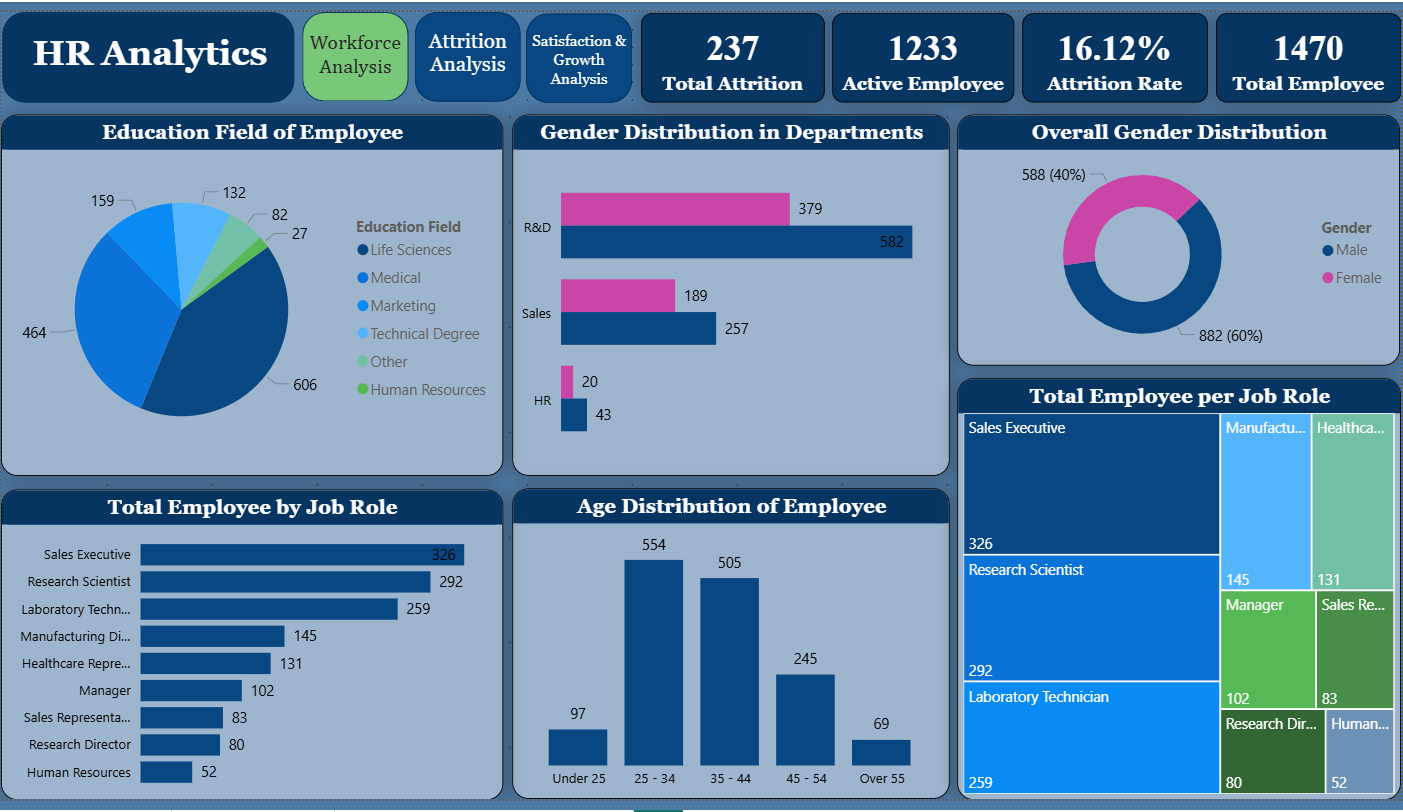

Layout of this report page (visuals, bound fields, positions):
{"tool":"powerbi","page":{"name":"Workforce Analysis","canvas":[1280,720],"ordinal":0},"visuals":[{"type":"card","fields":{"Values":["CountNonNull(HR data.Employee Count)"]},"box":[1110.4,1.4,169.4,81.4],"z":0},{"type":"clusteredBarChart","title":"Gender Distribution in Departments","fields":{"Y":["CountNonNull(HR data.emp no)"],"Category":["HR data.Department"],"Series":["HR data.Gender"]},"box":[467.5,93.5,400.2,330.4],"z":1000},{"type":"donutChart","title":"Overall Gender Distribution","fields":{"Category":["HR data.Gender"],"Y":["CountNonNull(HR data.emp no)"]},"box":[874,93.5,405.2,229.4],"z":2000},{"type":"card","fields":{"Values":["CountNonNull(HR data.Attrition)"]},"box":[585.5,1.4,168,81.4],"z":3000},{"type":"columnChart","title":"Age Distribution of Employee","fields":{"Category":["HR data.CF_age band"],"Y":["CountNonNull(HR data.emp no)"]},"box":[467.5,435.7,400.2,284.3],"z":4000},{"type":"clusteredBarChart","title":"Total Employee by Job Role","fields":{"Y":["CountNonNull(HR data.emp no)"],"Category":["HR data.Job Role"]},"box":[0,436.4,458.8,284.3],"z":5000},{"type":"card","fields":{"Values":["HR data.Attretion Rate"]},"box":[934.1,1.4,169.4,81.4],"z":6000},{"type":"pieChart","title":"Education Field of Employee","fields":{"Category":["HR data.Education Field"],"Y":["CountNonNull(HR data.emp no)"]},"box":[0,93.5,458.8,330.4],"z":7000},{"type":"treemap","title":"Total Employee per Job Role","fields":{"Values":["CountNonNull(HR data.emp no)"],"Group":["HR data.Job Role"]},"box":[874.2,335,405.8,385.8],"z":8000},{"type":"card","fields":{"Values":["CountNonNull(HR data.Attrition)"]},"box":[760.5,1.4,166.6,81.4],"z":9000},{"type":"shape","box":[1.2,0,267.1,82.9],"z":10000},{"type":"textbox","box":[23.7,13.7,243.1,47.4],"z":11000},{"type":"shape","box":[275,0,97.2,81.9],"z":12000},{"type":"shape","box":[377.9,0,97.1,82],"z":13000},{"type":"shape","box":[479.6,1.3,97.1,82],"z":14000},{"type":"textbox","box":[275.5,11.2,97.2,59.8],"z":15000},{"type":"textbox","box":[377.8,11.2,97.2,59.8],"z":16000},{"type":"textbox","box":[480,11.2,97.2,71.1],"z":17000},{"type":"actionButton","box":[274.3,1.2,99.7,81],"z":18000},{"type":"actionButton","box":[377.8,1.2,99.7,81],"z":19000},{"type":"actionButton","box":[481.2,1.2,97.2,81],"z":20000}]}

Visuals, with their boxes in screenshot pixels (x1, y1, x2, y2), scaled from the page's 1280x720 canvas onto the 1403x812 screenshot:
card - CountNonNull(HR data.Employee Count): <bbox>1217, 2, 1402, 93</bbox>
"Gender Distribution in Departments" clusteredBarChart: <bbox>512, 105, 951, 478</bbox>
"Overall Gender Distribution" donutChart: <bbox>958, 105, 1402, 364</bbox>
card - CountNonNull(HR data.Attrition): <bbox>642, 2, 826, 93</bbox>
"Age Distribution of Employee" columnChart: <bbox>512, 491, 951, 811</bbox>
"Total Employee by Job Role" clusteredBarChart: <bbox>0, 492, 503, 811</bbox>
card - HR data.Attretion Rate: <bbox>1024, 2, 1210, 93</bbox>
"Education Field of Employee" pieChart: <bbox>0, 105, 503, 478</bbox>
"Total Employee per Job Role" treemap: <bbox>958, 378, 1402, 811</bbox>
card - CountNonNull(HR data.Attrition): <bbox>834, 2, 1016, 93</bbox>
shape: <bbox>1, 0, 294, 93</bbox>
textbox: <bbox>26, 15, 292, 69</bbox>
shape: <bbox>301, 0, 408, 92</bbox>
shape: <bbox>414, 0, 521, 92</bbox>
shape: <bbox>526, 1, 632, 94</bbox>
textbox: <bbox>302, 13, 409, 80</bbox>
textbox: <bbox>414, 13, 521, 80</bbox>
textbox: <bbox>526, 13, 633, 93</bbox>
actionButton: <bbox>301, 1, 410, 93</bbox>
actionButton: <bbox>414, 1, 523, 93</bbox>
actionButton: <bbox>527, 1, 634, 93</bbox>
